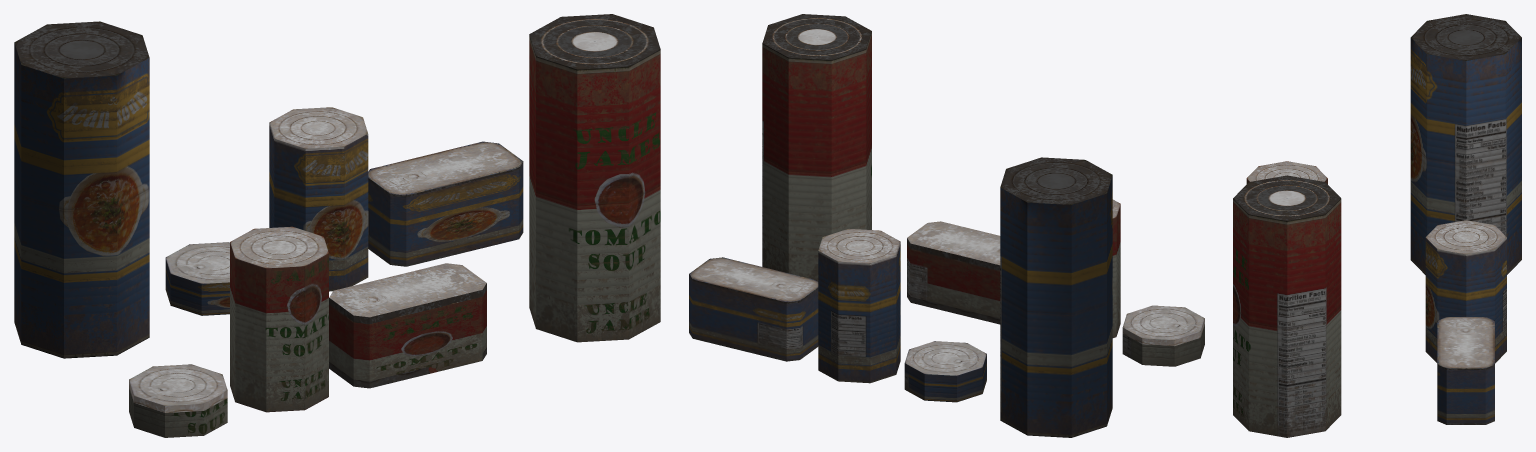
The model's file is low_poly_canned_soups.glb.
The picture shows the model from 3 angles, left to right: view 1: azimuth 30°, elevation 25°; view 2: azimuth 150°, elevation 25°; view 3: azimuth 270°, elevation 25°; orthographic projection. The views are drawn at different scales.
Parts seen in each view (by area): view 1: beanSoup_1, tomatoSoupT_1, tomatoSoupT_3, tomatoSoupT_2, beanSoup_2, beanSoup_3, tomatoSoupT_4, beanSoup_4; view 2: beanSoup_1, tomatoSoupT_1, beanSoup_3, beanSoup_2, tomatoSoupT_2, beanSoup_4, tomatoSoupT_4, tomatoSoupT_3; view 3: tomatoSoupT_1, beanSoup_1, beanSoup_3, beanSoup_2, tomatoSoupT_3.
Boxes of the visible parts, bbox=[...] form: beanSoup_1: bbox=[14, 21, 149, 358]; tomatoSoupT_1: bbox=[529, 14, 660, 342]; tomatoSoupT_3: bbox=[230, 226, 328, 412]; tomatoSoupT_2: bbox=[329, 263, 486, 388]; beanSoup_2: bbox=[368, 141, 523, 266]; beanSoup_3: bbox=[269, 107, 368, 291]; tomatoSoupT_4: bbox=[129, 364, 227, 437]; beanSoup_4: bbox=[165, 242, 229, 315]; beanSoup_1: bbox=[1000, 157, 1112, 437]; tomatoSoupT_1: bbox=[762, 14, 871, 281]; beanSoup_3: bbox=[818, 228, 900, 383]; beanSoup_2: bbox=[689, 257, 818, 361]; tomatoSoupT_2: bbox=[907, 221, 1000, 324]; beanSoup_4: bbox=[904, 341, 986, 402]; tomatoSoupT_4: bbox=[1122, 305, 1204, 366]; tomatoSoupT_3: bbox=[1112, 199, 1120, 337]; tomatoSoupT_1: bbox=[1233, 175, 1341, 437]; beanSoup_1: bbox=[1410, 14, 1521, 274]; beanSoup_3: bbox=[1425, 220, 1506, 363]; beanSoup_2: bbox=[1437, 317, 1494, 424]; tomatoSoupT_3: bbox=[1246, 161, 1327, 184].
Bounding box in the file's own units: 0.3885 × 0.2007 × 0.2351.
2 materials, 2 textured.
